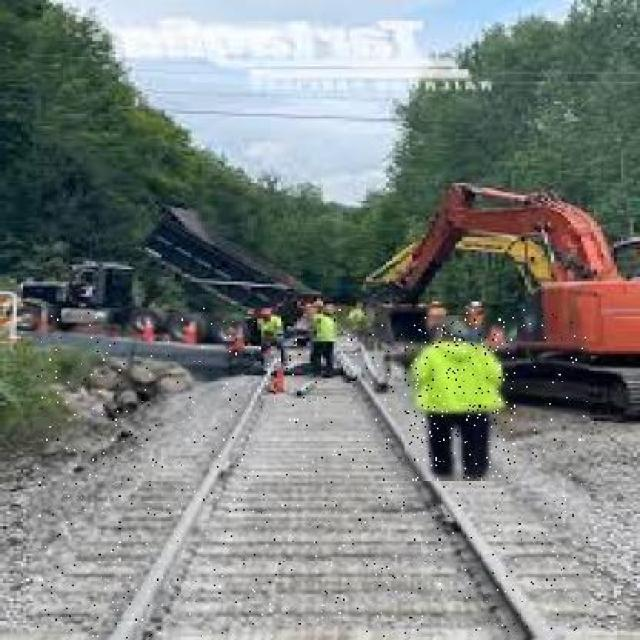rail: (36, 309, 589, 639)
